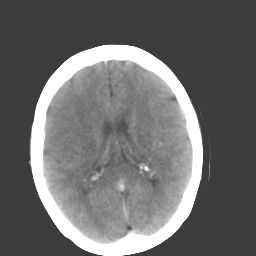ischemic: (42, 80, 94, 169)
